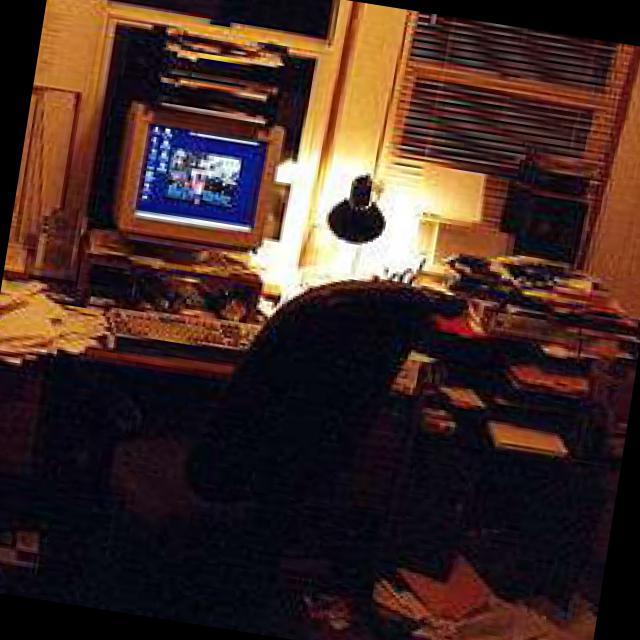2001: (68, 0, 338, 265), (373, 10, 629, 222)
book case: (487, 417, 563, 455)
books crop: (489, 303, 635, 398)
boooks: (438, 248, 622, 312)
box contants: (389, 349, 431, 393)
calender: (33, 0, 96, 93)
chair: (213, 275, 429, 450)
computer crop: (499, 148, 593, 260)
desk calendar: (0, 229, 638, 485)
file cabinet: (141, 17, 288, 128)
keyboard crop: (100, 303, 259, 359)
lamp crop: (322, 168, 389, 243)
monitor crop: (109, 98, 281, 262)
papers: (370, 548, 594, 640), (0, 277, 106, 366)
printer: (415, 159, 511, 268)
shelf crop: (60, 221, 263, 318), (490, 286, 639, 342)
